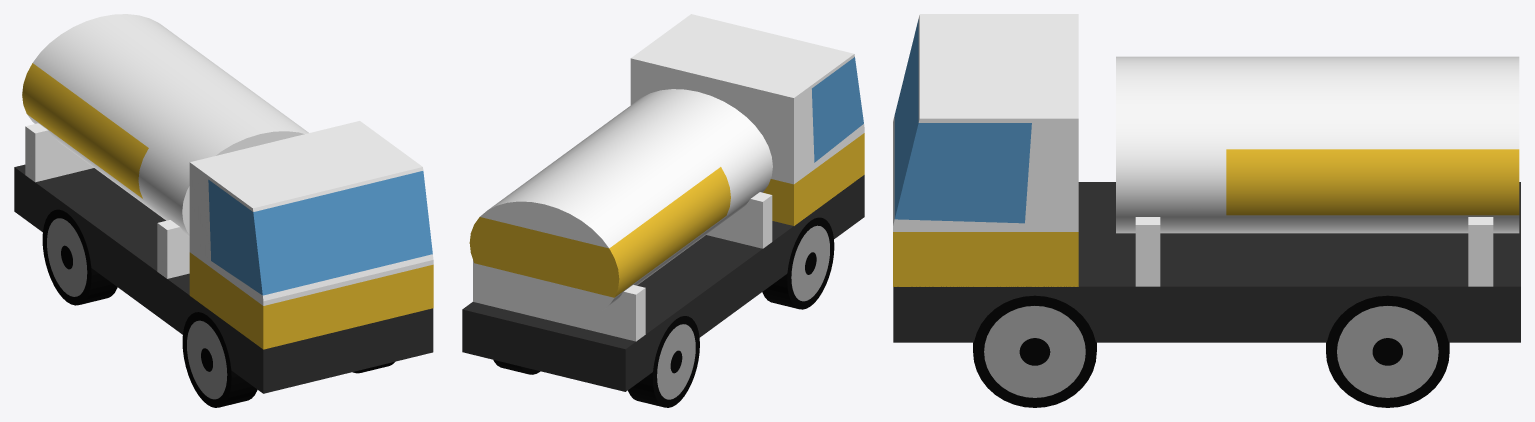
The model's file is tank-lkw.dae.
3 views of the same model, side by side, from view 1: azimuth 30°, elevation 25°; view 2: azimuth 150°, elevation 25°; view 3: azimuth 270°, elevation 25° (orthographic). The views are drawn at different scales.
Parts seen in each view (by area): view 1: lkw, rad_rechts (×2); view 2: lkw, rad_rechts (×2); view 3: lkw, rad_links (×2).
Boxes of the visible parts, x1,y1,x2,y2 form: lkw: (14,14,433,393); rad_rechts (×2): (42,209,257,407); lkw: (462,14,864,391); rad_rechts (×2): (628,217,834,407); lkw: (893,14,1520,342); rad_links (×2): (973,295,1449,407).
Size of the model in its own units: 200 by 258 by 507.
